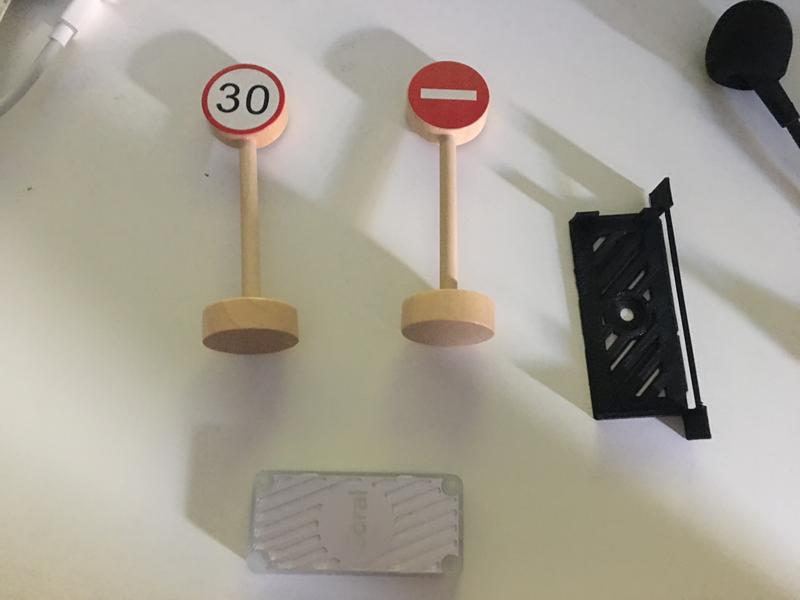Traffic_Sign_30: (201, 64, 286, 134)
Traffic_Sign_No_Entry: (408, 63, 488, 131)
